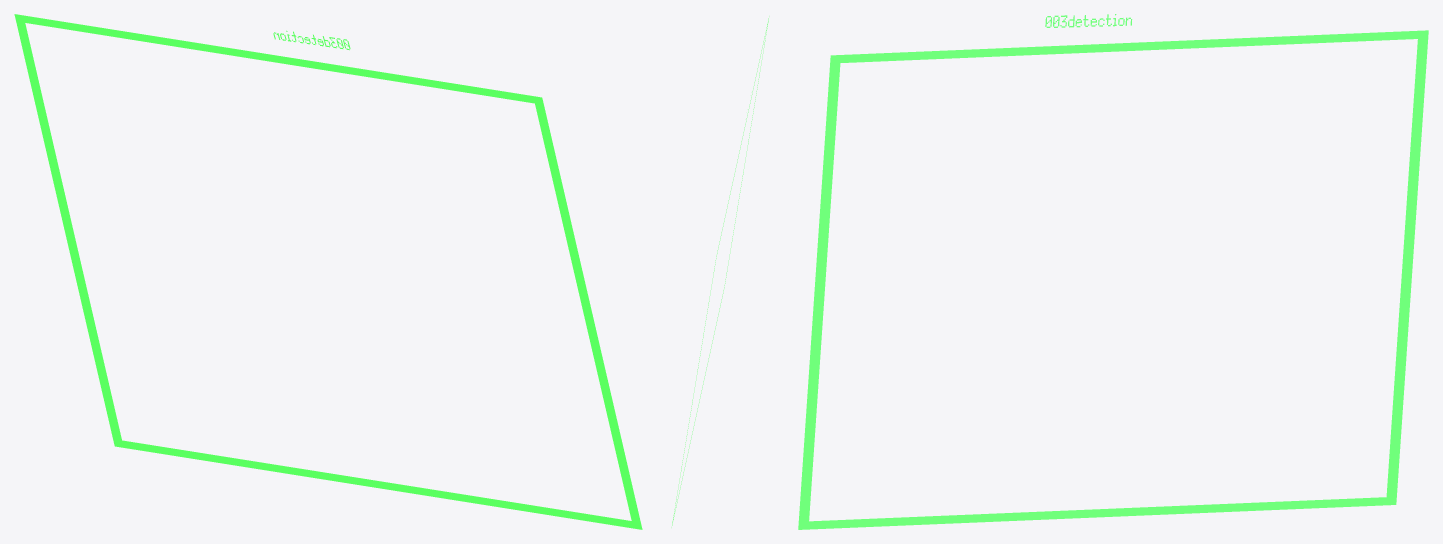
File: 003detection.glb
3 views of the same model, side by side, from view 1: azimuth 30°, elevation 25°; view 2: azimuth 150°, elevation 25°; view 3: azimuth 270°, elevation 25° (orthographic). The views are drawn at different scales.
Parts seen in each view (by area): view 1: Detection01.002; view 2: Detection01.002; view 3: Detection01.002.
Part boxes in pixels (x1,y1,x2,y2): Detection01.002: (14,14,642,529); Detection01.002: (671,16,769,527); Detection01.002: (798,30,1428,529).
Size of the model in its own units: 0.8717 by 1.42 by 1.57.
